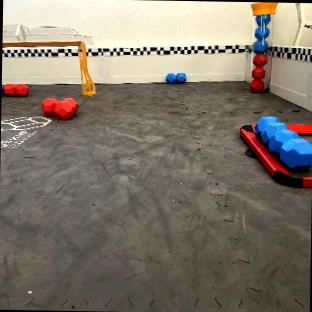V5_BLUE: (256, 117, 312, 169), (165, 72, 185, 82)
V5_RED: (41, 97, 77, 119), (250, 52, 266, 91), (3, 83, 28, 97)
